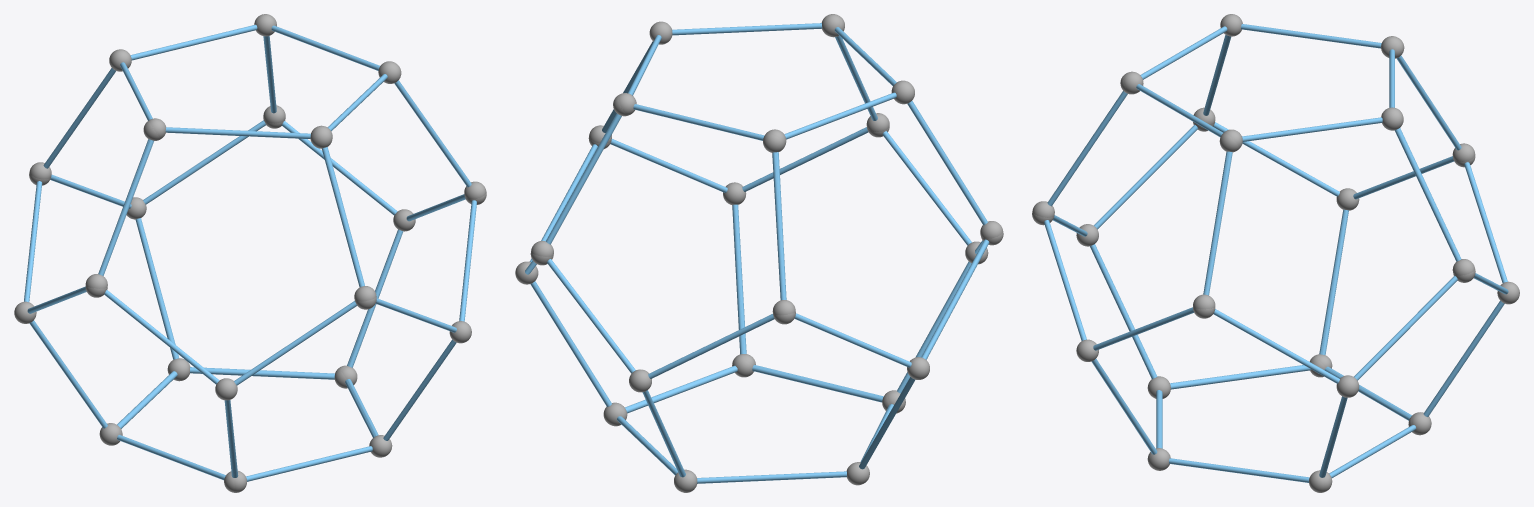
File: dodecahedron.glb
3 views of the same model, side by side, from view 1: azimuth 30°, elevation 25°; view 2: azimuth 150°, elevation 25°; view 3: azimuth 270°, elevation 25° (orthographic). The views are drawn at different scales.
Size of the model in its own units: 8.26 by 7.08 by 8.66.
